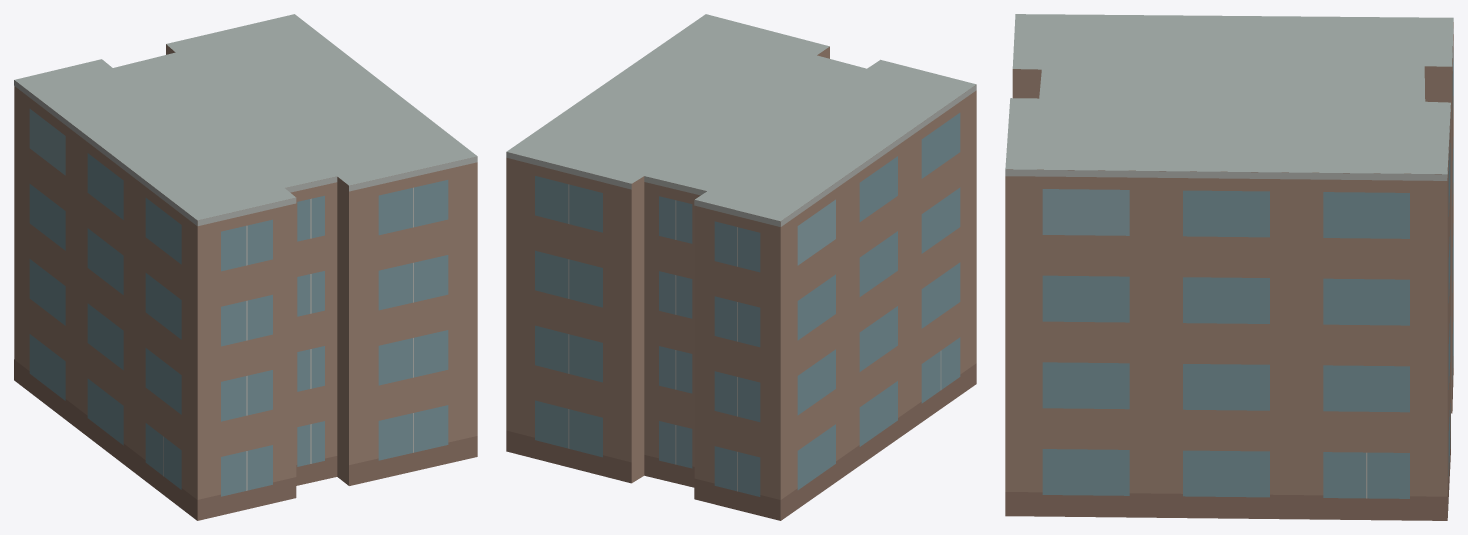
File: survey-upis-32980557.glb
3 views of the same model, side by side, from view 1: azimuth 30°, elevation 25°; view 2: azimuth 150°, elevation 25°; view 3: azimuth 270°, elevation 25° (orthographic). The views are drawn at different scales.
Parts seen in each view (by area): view 1: survey-upis-32980557.tmp; view 2: survey-upis-32980557.tmp; view 3: survey-upis-32980557.tmp.
Boxes of the visible parts, x1,y1,x2,y2 form: survey-upis-32980557.tmp: (14, 14, 477, 520); survey-upis-32980557.tmp: (506, 14, 976, 520); survey-upis-32980557.tmp: (1005, 14, 1453, 520).
Bounding box in the file's own units: 12.35 × 12.45 × 14.6.
